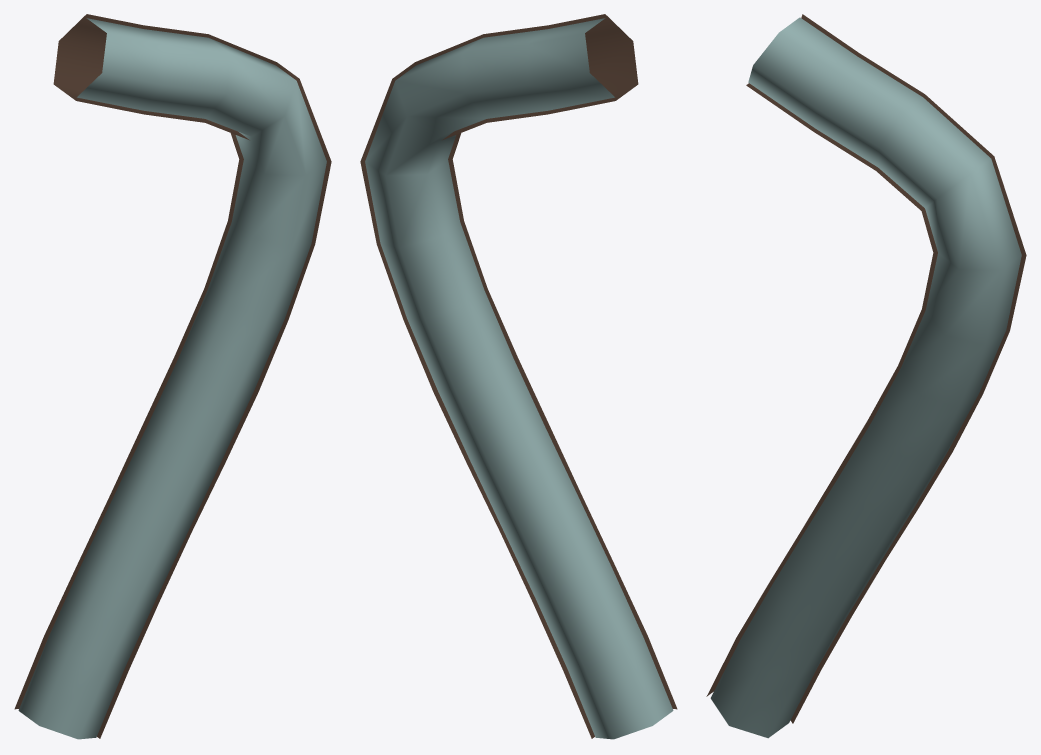
Rendered from prop_10014.glb.
3 renders of one model, left to right at view 1: azimuth 30°, elevation 25°; view 2: azimuth 150°, elevation 25°; view 3: azimuth 330°, elevation 25°, orthographic.
Visible parts, largest first — view 1: prop_10014; view 2: prop_10014; view 3: prop_10014.
Part boxes in pixels (bbox=[...]): prop_10014: bbox=[14, 14, 331, 739]; prop_10014: bbox=[360, 14, 677, 739]; prop_10014: bbox=[706, 14, 1026, 738].
Bounding box in the file's own units: 0.362 × 0.83 × 0.0985.
